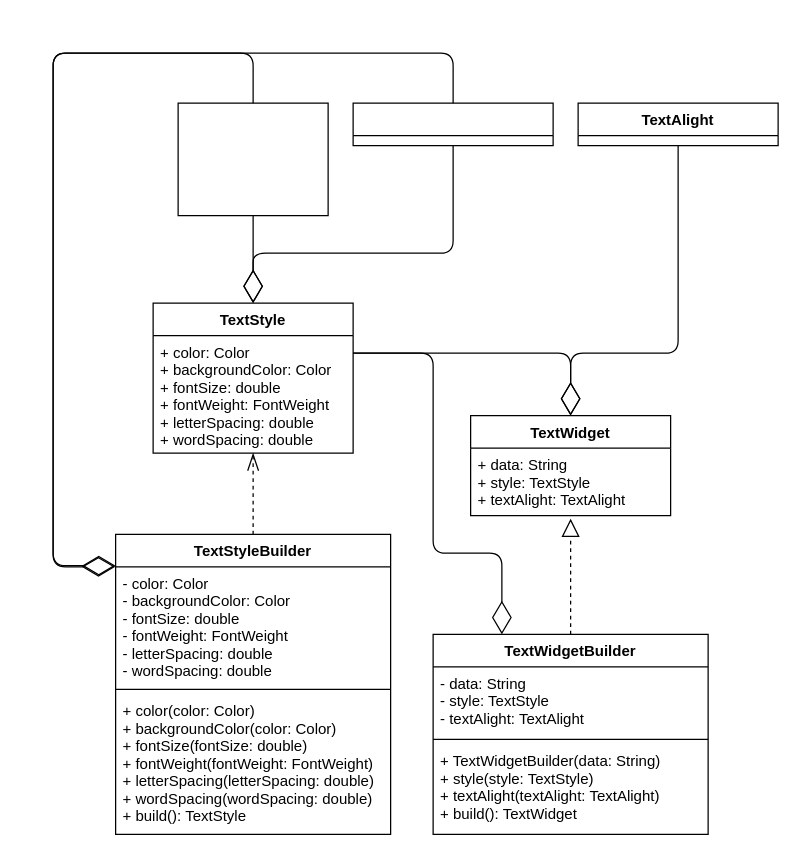
The diagram is 800 pixels wide and 860 high, and some of its shapes have lost their labels. The centre of each missing label's shape, as x and y in pixels:
"<<enumeration>> Color + white + black + ..." belongs at pixel 252 159.
"FontWeight" belongs at pixel 452 124.
